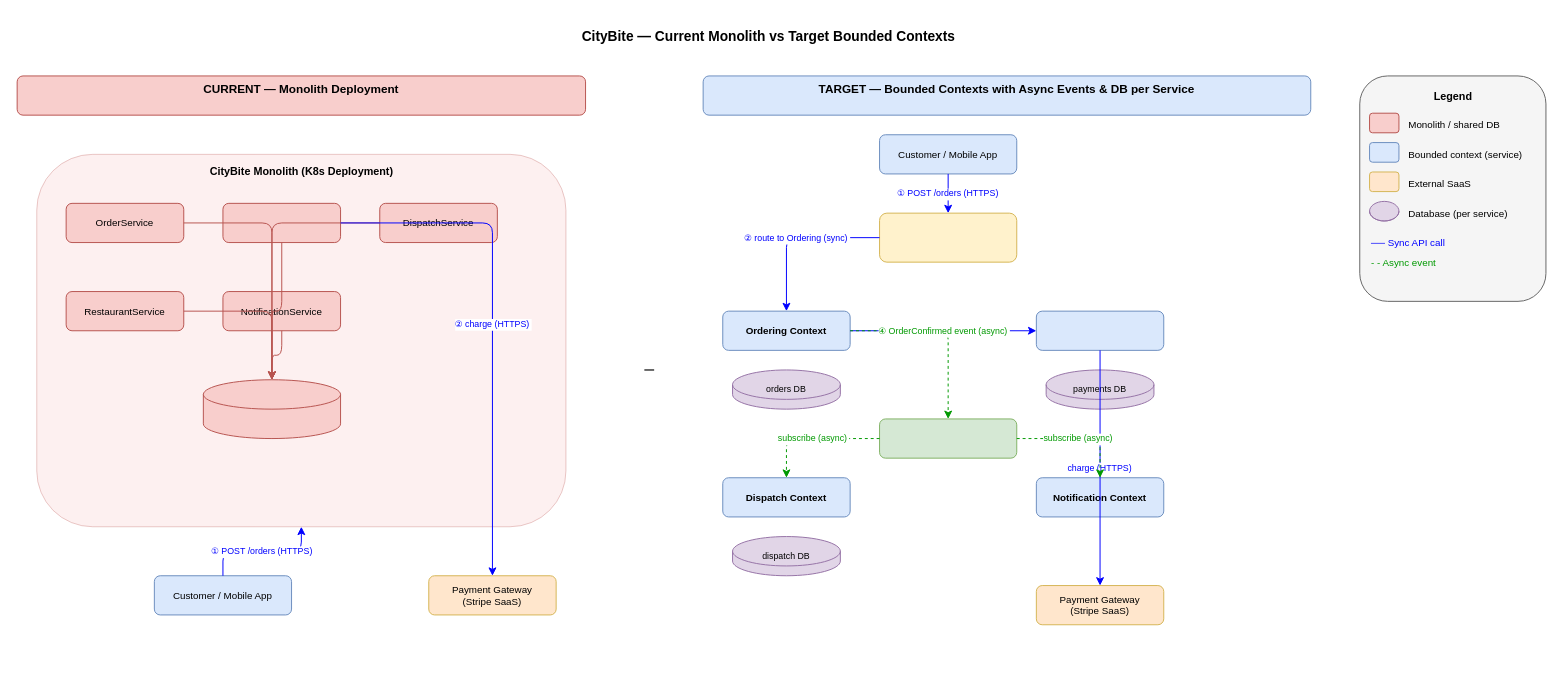
The diagram is 1563 pixels wide and 681 high, and some of its shapes have lost their labels. Here are the shapes that lost their labels. From the top down, the centre of each, then its label:
At point (281, 222): "PaymentService".
At point (948, 237): "API Gateway / Facade (Strangler entry point)".
At point (1099, 330): "Payment Context".
At point (271, 409): "Shared Postgres (one schema)".
At point (948, 438): "Message Bus (Kafka / SQS)".
